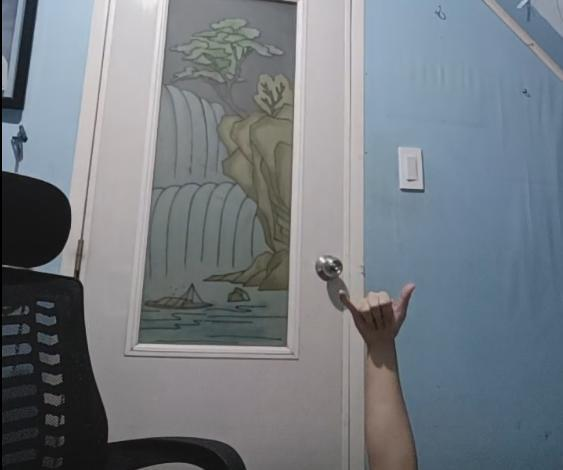y: (337, 285, 411, 341)
